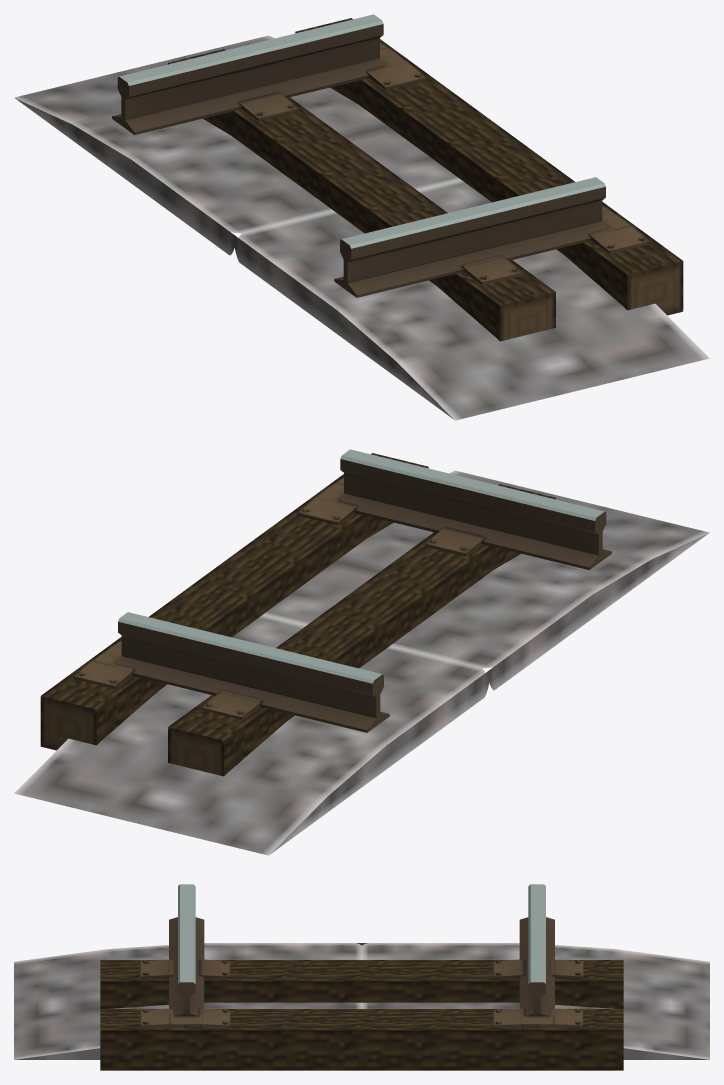
Rendered from spsf_tracks_ballast.obj.
The picture shows the model from 3 angles, top to bottom: view 1: azimuth 30°, elevation 25°; view 2: azimuth 150°, elevation 25°; view 3: azimuth 270°, elevation 25°; orthographic projection. The views are drawn at different scales.
Parts seen in each view (by area): view 1: RAIL_BASE_Cube.001, RAIL_BASE.002_RAIL_BASE.007, RAIL_LEFT_Cube.002, RAIL_RIGHT_Cube.010, RAIL_BASE.003_Cube.003; view 2: RAIL_BASE_Cube.001, RAIL_BASE.002_RAIL_BASE.007, RAIL_RIGHT_Cube.010, RAIL_LEFT_Cube.002, RAIL_BASE.003_Cube.003; view 3: RAIL_BASE.002_RAIL_BASE.007, RAIL_BASE_Cube.001, RAIL_BASE.003_Cube.003, RAIL_LEFT_Cube.002, RAIL_RIGHT_Cube.010.
Part boxes in pixels (x1,y1,x2,y2): RAIL_BASE_Cube.001: [14, 35, 709, 420]; RAIL_BASE.002_RAIL_BASE.007: [168, 18, 683, 341]; RAIL_LEFT_Cube.002: [334, 177, 607, 297]; RAIL_RIGHT_Cube.010: [112, 14, 385, 135]; RAIL_BASE.003_Cube.003: [239, 43, 649, 284]; RAIL_BASE_Cube.001: [14, 470, 709, 855]; RAIL_BASE.002_RAIL_BASE.007: [40, 453, 555, 776]; RAIL_RIGHT_Cube.010: [116, 612, 389, 732]; RAIL_LEFT_Cube.002: [338, 449, 611, 570]; RAIL_BASE.003_Cube.003: [74, 478, 484, 719]; RAIL_BASE.002_RAIL_BASE.007: [100, 960, 623, 1070]; RAIL_BASE_Cube.001: [14, 943, 709, 1059]; RAIL_BASE.003_Cube.003: [140, 959, 583, 1027]; RAIL_LEFT_Cube.002: [169, 884, 204, 1016]; RAIL_RIGHT_Cube.010: [519, 884, 554, 1016].
Size of the model in its own units: 1.11 by 0.3683 by 3.
Materials: 1 (1 with a texture image).
